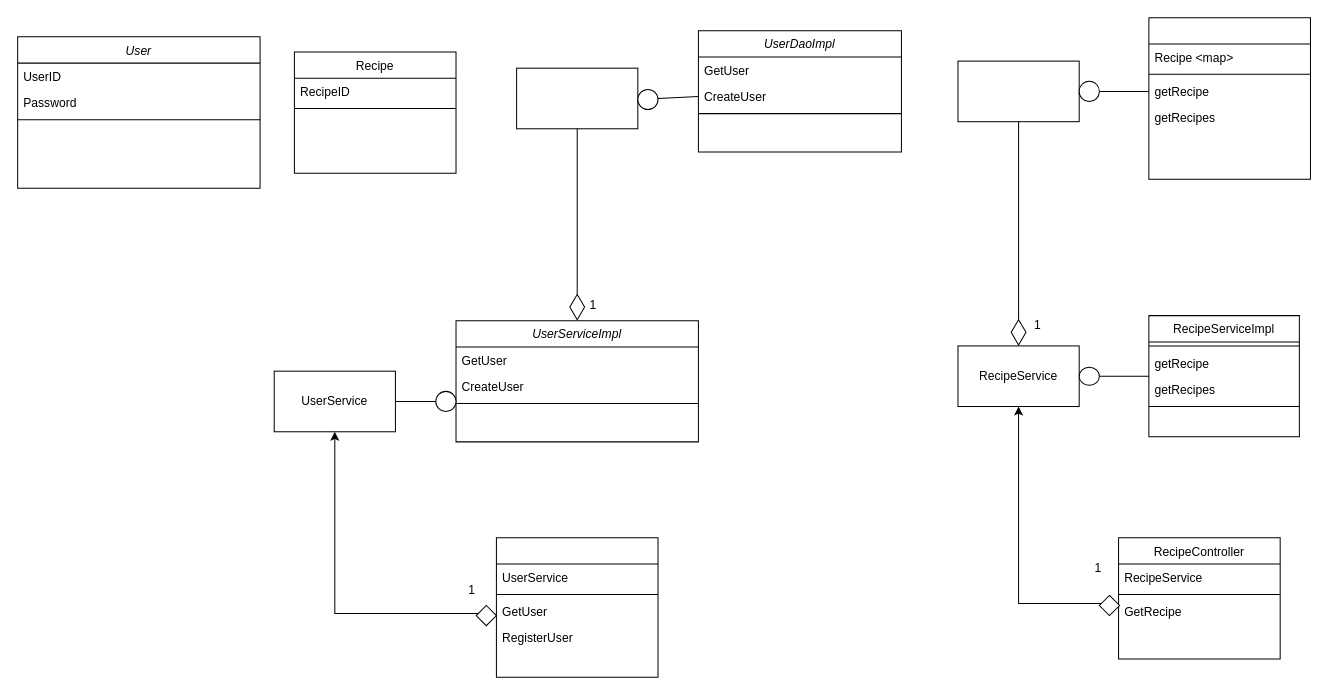
The diagram is 1328 pixels wide and 695 high, and some of its shapes have lost their labels. Each missing label, with the box of its shape:
RecipeDao: (957, 60, 1079, 122)
RecipeDAOImpl: (1148, 17, 1310, 179)
UserController: (495, 537, 658, 677)
UserDao: (516, 67, 638, 129)
